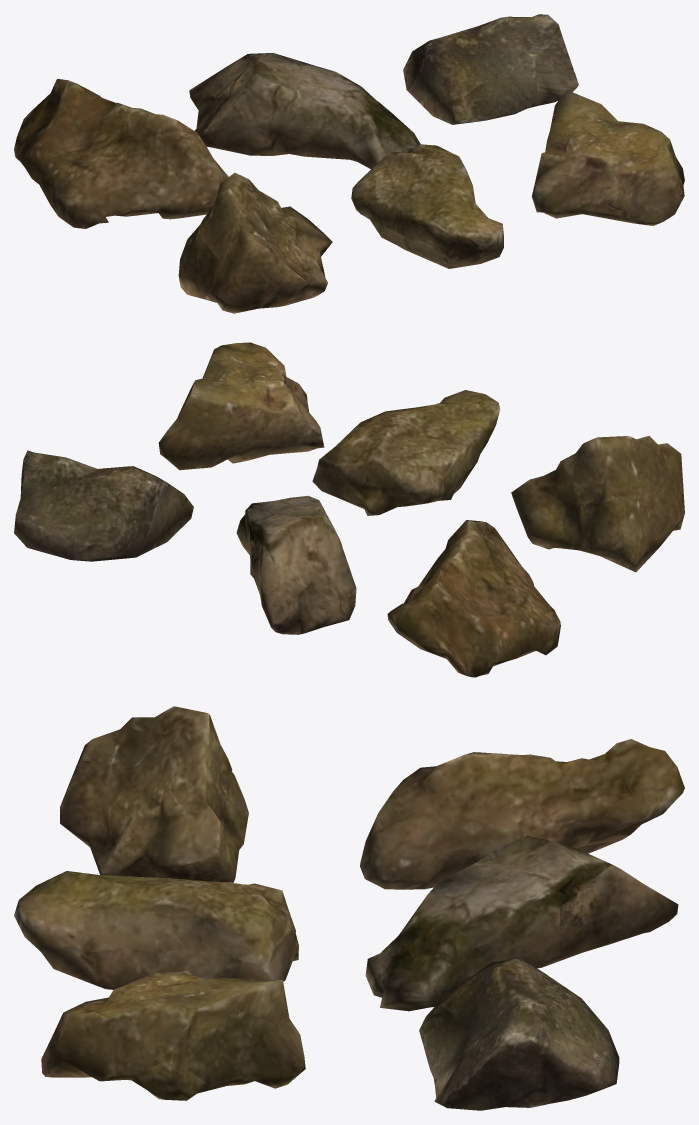
The model's file is rock_moss_set_01.glb.
3 renders of one model, top to bottom at view 1: azimuth 30°, elevation 25°; view 2: azimuth 150°, elevation 25°; view 3: azimuth 270°, elevation 25°, orthographic. The views are drawn at different scales.
Visible parts, largest first — view 1: rock_moss_set_01_rock01; view 2: rock_moss_set_01_rock01; view 3: rock_moss_set_01_rock01.
Boxes of the visible parts, bbox=[...] form: rock_moss_set_01_rock01: bbox=[14, 14, 684, 313]; rock_moss_set_01_rock01: bbox=[14, 342, 684, 677]; rock_moss_set_01_rock01: bbox=[14, 706, 684, 1110].
Size of the model in its own units: 7.98 by 1.76 by 6.94.
1 material, 1 textured.
